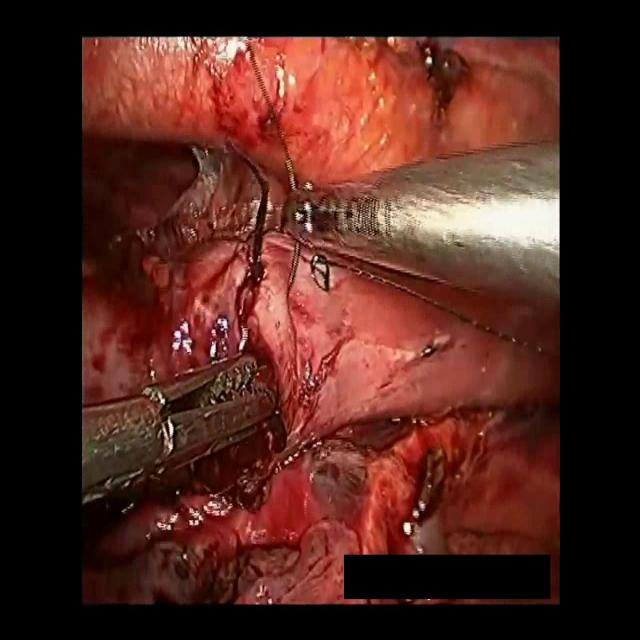surgical-area: (82, 39, 561, 603)
surgical-tool: (282, 137, 561, 313), (82, 350, 278, 521)
